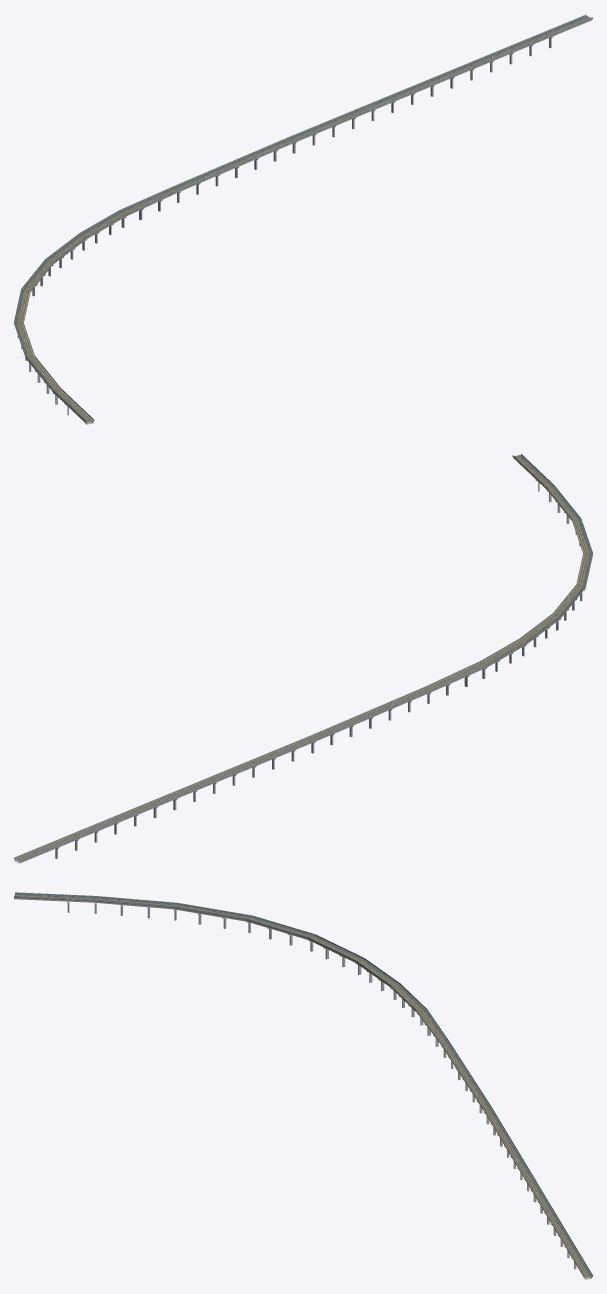
3 views of the same model, one above another, from view 1: azimuth 30°, elevation 25°; view 2: azimuth 210°, elevation 25°; view 3: azimuth 270°, elevation 25° (orthographic).
Visible parts, largest first — view 1: HN1258___Lang_Metro_Station___1; view 2: HN1258___Lang_Metro_Station___1; view 3: HN1258___Lang_Metro_Station___1.
Part boxes in pixels (x1=…): HN1258___Lang_Metro_Station___1: x1=14, y1=14, x2=592, y2=424; HN1258___Lang_Metro_Station___1: x1=14, y1=454, x2=592, y2=863; HN1258___Lang_Metro_Station___1: x1=14, y1=892, x2=592, y2=1279.
Bounding box in the file's own units: 802 × 15.17 × 511.
1 material, 1 textured.
